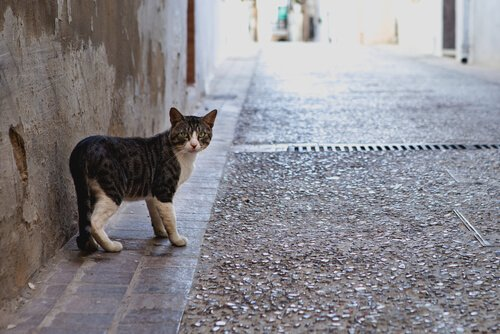cat: (59, 103, 221, 256)
cat-face: (163, 102, 219, 157)
